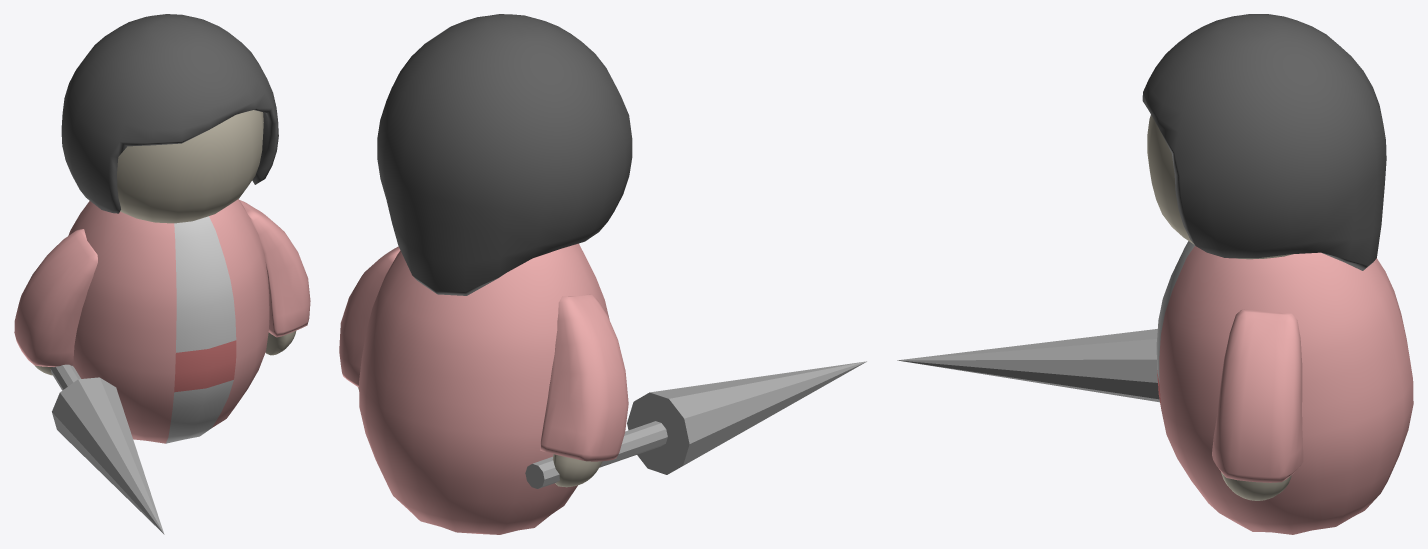
Rendered from SetsukoWalk_Umbrella_NoConst.fbx.
3 views of the same model, side by side, from view 1: azimuth 30°, elevation 25°; view 2: azimuth 150°, elevation 25°; view 3: azimuth 270°, elevation 25° (orthographic). The views are drawn at different scales.
Parts seen in each view (by area): view 1: Torso, Hair, Head, pasted__pCylinder5, LeftArm1, LeftArm; view 2: Hair, Torso, pasted__pCylinder5, LeftArm1, LeftArm; view 3: Hair, Torso, LeftArm, pasted__pCylinder5, Head.
Part boxes in pixels (x1,y1,x2,y2): Torso: [68, 199, 269, 443]; Hair: [61, 14, 278, 213]; Head: [117, 110, 263, 223]; pasted__pCylinder5: [50, 364, 164, 534]; LeftArm1: [14, 229, 97, 375]; LeftArm: [239, 200, 310, 355]; Hair: [377, 14, 632, 295]; Torso: [359, 243, 609, 534]; pasted__pCylinder5: [525, 361, 866, 488]; LeftArm1: [540, 294, 628, 487]; LeftArm: [339, 246, 400, 389]; Hair: [1142, 14, 1386, 270]; Torso: [1156, 241, 1413, 534]; LeftArm: [1212, 309, 1303, 500]; pasted__pCylinder5: [897, 329, 1159, 402]; Head: [1147, 115, 1291, 259].
Bounding box in the file's own units: 3.69 × 4.99 × 4.8.
